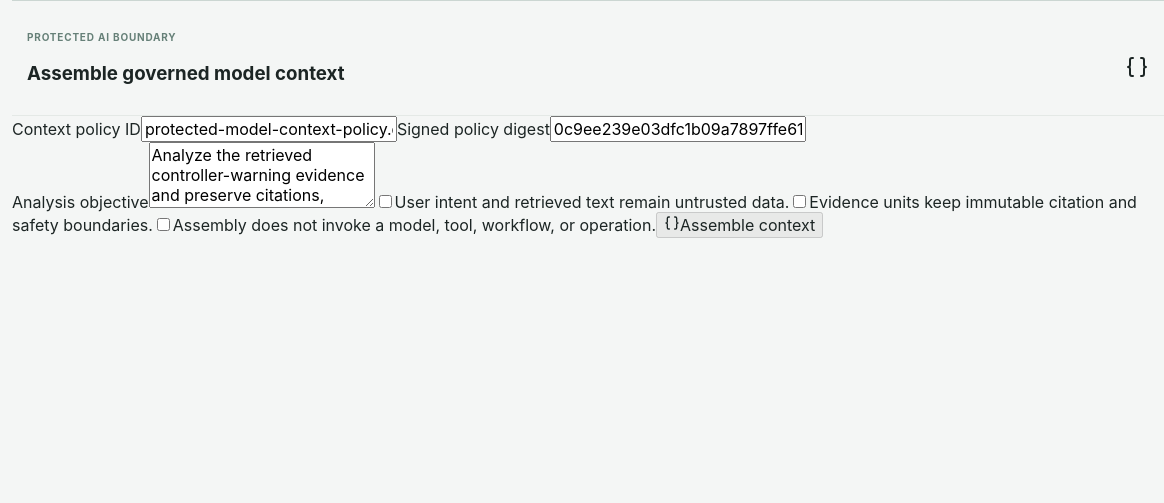
Test case: ModelContextAssemblyPanel › shows only a minimized context manifest without invoking a model
The image size is (1164, 503).
Expected: the button "Assemble context" is disabled, [656,212,823,238]
Click the checkbox labelled "User intent and retrieved text remain untrusted data.". click: (385, 202)
box: [378,195,392,208]
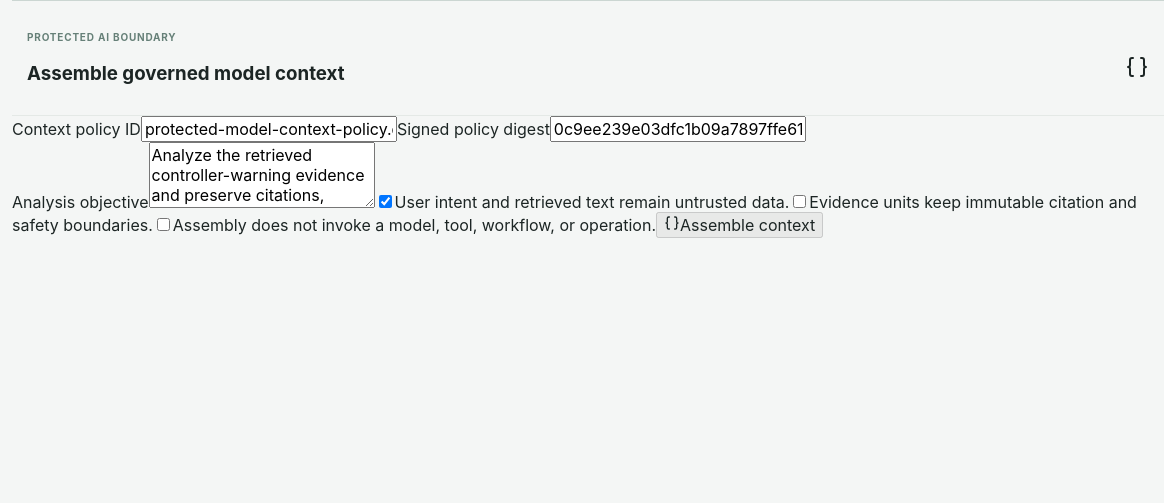
Click the checkbox labelled "Evidence units keep immutable citation and safety boundaries.". click: (800, 202)
box: [793,195,806,208]
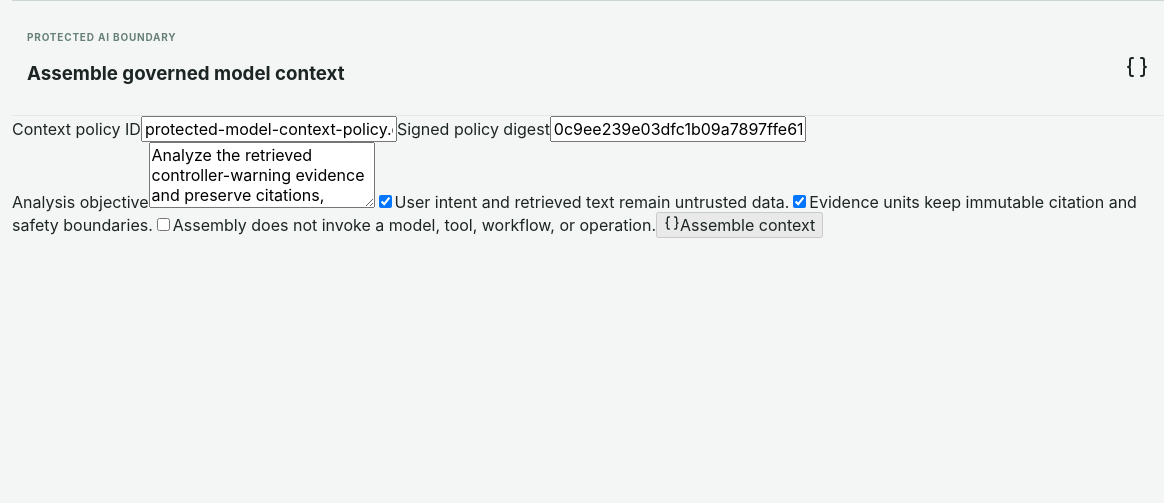
Click the checkbox labelled "Assembly does not invoke a model, tool, workflow, or operation.". click: (163, 225)
box: [157,218,170,231]
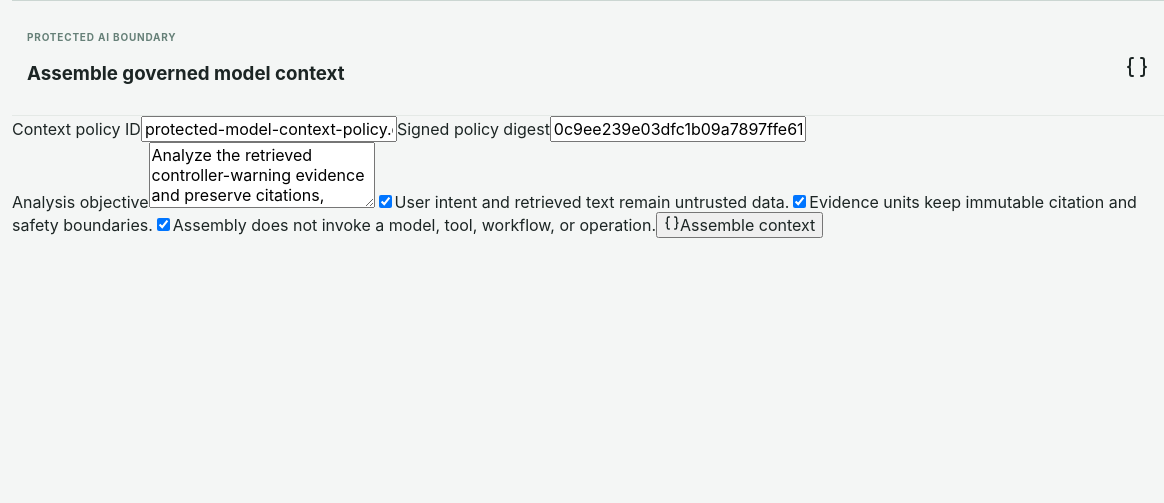
Expected: the button "Assemble context" is enabled
Click the button "Assemble context". click: (740, 225)
box: [656,212,823,238]
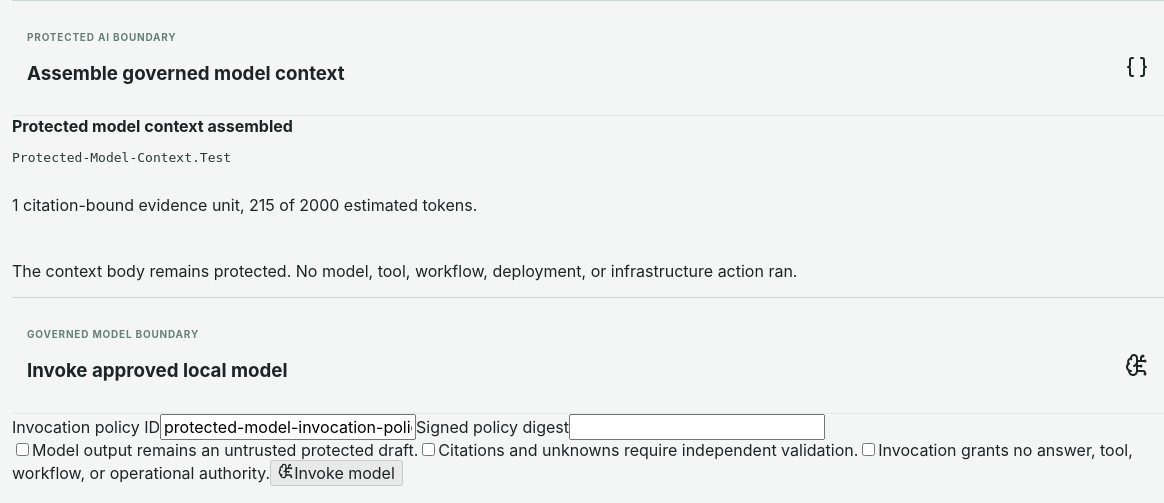
Expected: the text "Protected model context assembled" is shown, [12,116,293,136]
Expected: the text "context body remains protected" is shown, [12,261,798,281]
